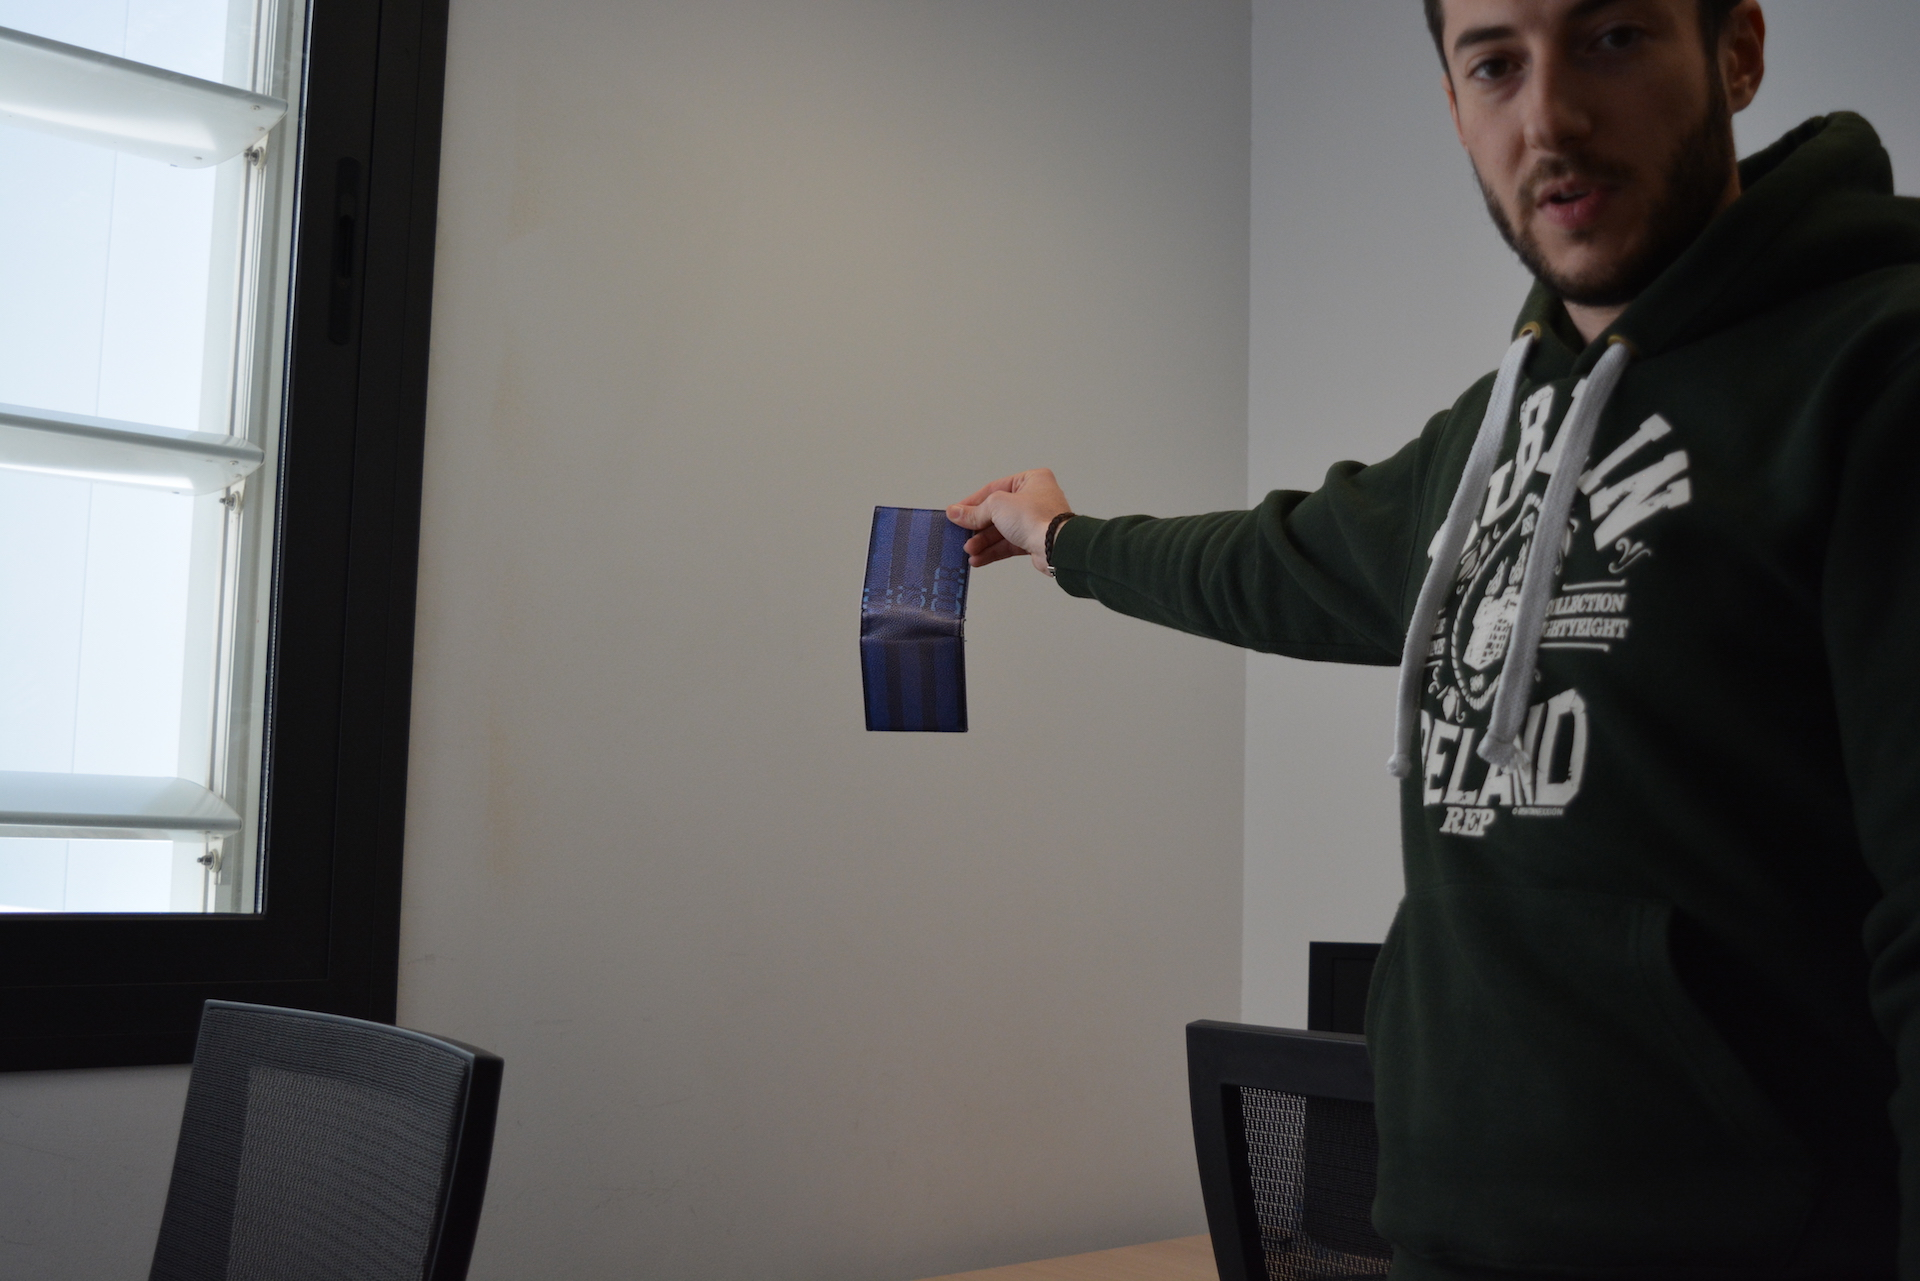monedero: (858, 505, 975, 735)
